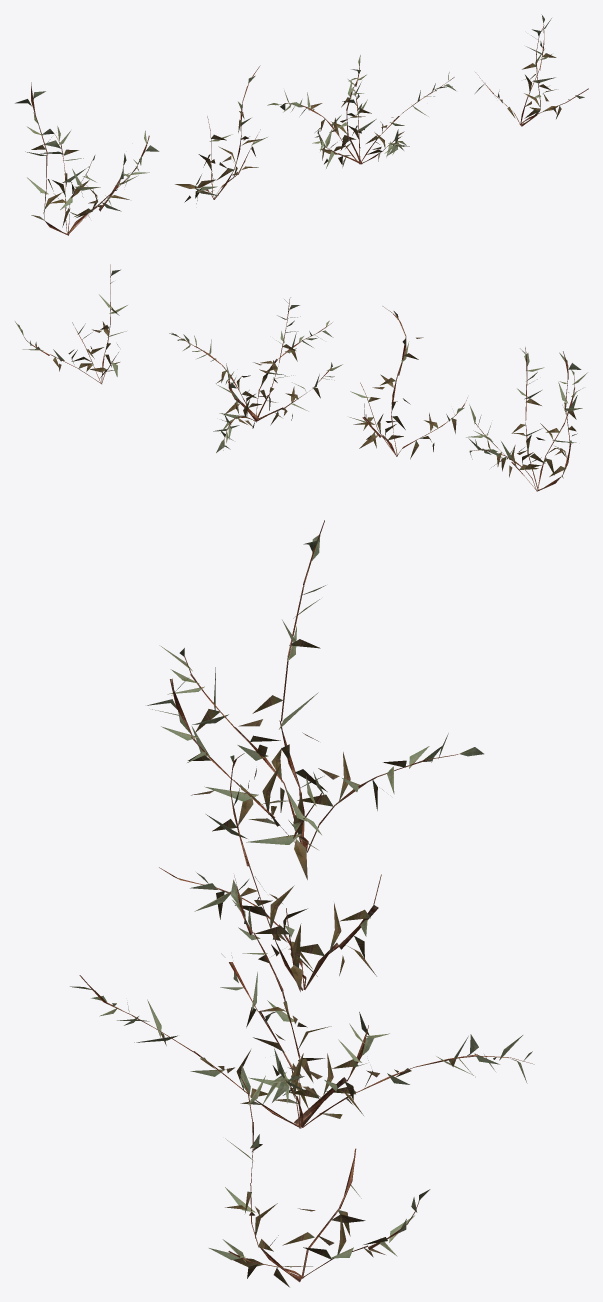
Rendered from shrub_02.glb.
3 renders of one model, top to bottom at view 1: azimuth 30°, elevation 25°; view 2: azimuth 150°, elevation 25°; view 3: azimuth 270°, elevation 25°, orthographic. The views are drawn at different scales.
Visible parts, largest first — view 1: shrub_02_a, shrub_02_c, shrub_02_b, shrub_02_d; view 2: shrub_02_c, shrub_02_a, shrub_02_b, shrub_02_d; view 3: shrub_02_a, shrub_02_c, shrub_02_b, shrub_02_d.
Part boxes in pixels (<box>): shrub_02_a: <box>15,82,159,235</box>; shrub_02_c: <box>267,55,455,168</box>; shrub_02_b: <box>175,65,267,203</box>; shrub_02_d: <box>475,14,588,126</box>; shrub_02_c: <box>169,297,342,452</box>; shrub_02_a: <box>466,347,587,491</box>; shrub_02_b: <box>349,306,467,459</box>; shrub_02_d: <box>15,264,127,384</box>; shrub_02_a: <box>147,520,483,879</box>; shrub_02_c: <box>70,875,534,1128</box>; shrub_02_b: <box>159,753,381,991</box>; shrub_02_d: <box>209,1065,430,1287</box>.
Bounding box in the file's own units: 6 × 1.61 × 2.23.
1 material, 1 textured.
